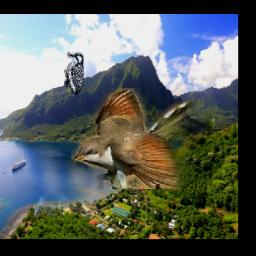Cuckoo: (71, 89, 215, 190)
Woodpecker: (64, 51, 84, 95)
